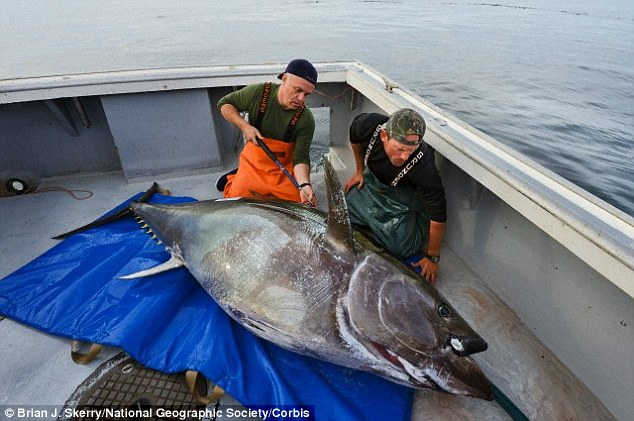Bluefina Tuna: (128, 157, 516, 400)
